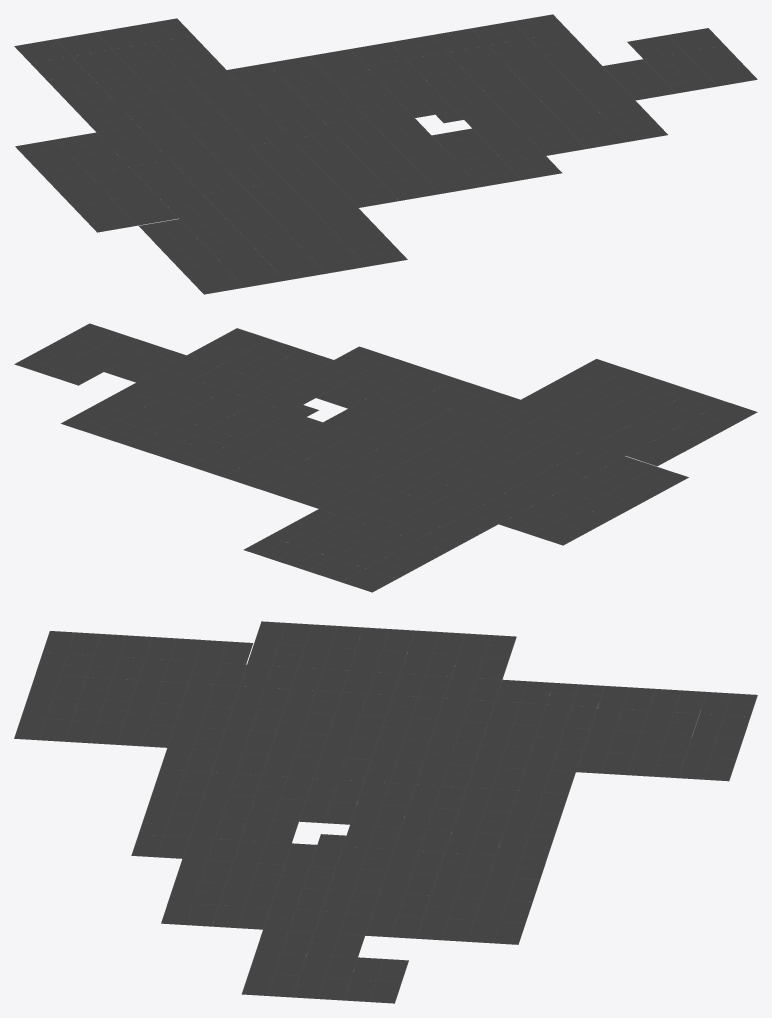
Rendered from Floor.fbx.
3 views of the same model, one above another, from view 1: azimuth 30°, elevation 25°; view 2: azimuth 150°, elevation 25°; view 3: azimuth 270°, elevation 25° (orthographic). The views are drawn at different scales.
Parts seen in each view (by area): view 1: Mesh_floor_temple_TL (62), Mesh_floor_temple_TL (6), Mesh_floor_temple_TL (10), Mesh_floor_temple_TL (13), Mesh_floor_temple_TL (18), Mesh_floor_temple_TL (23), Mesh_floor_temple_TL (27), Mesh_floor_temple_TL (28), Mesh_floor_temple_TL (43), Mesh_floor_temple_TL (50), Mesh_floor_temple_TL (51), Mesh_floor_temple_TL (54) (+126 smaller); view 2: Mesh_floor_temple_TL (13), Mesh_floor_temple_TL (22), Mesh_floor_temple_TL (27), Mesh_floor_temple_TL (42), Mesh_floor_temple_TL (54), Mesh_floor_temple_TL (60), Mesh_floor_temple_TL (78), Mesh_floor_temple_TL (119), Mesh_floor_temple_TL (149), Mesh_floor_temple_TL (6), Mesh_floor_temple_TL (10), Mesh_floor_temple_TL (98) (+126 smaller); view 3: Mesh_floor_temple_TL (14), Mesh_floor_temple_TL (93), Mesh_floor_temple_TL (133), Mesh_floor_temple_TL (40), Mesh_floor_temple_TL (51), Mesh_floor_temple_TL (71), Mesh_floor_temple_TL (78), Mesh_floor_temple_TL (82), Mesh_floor_temple_TL (95), Mesh_floor_temple_TL (101), Mesh_floor_temple_TL (103), Mesh_floor_temple_TL (114) (+126 smaller).
Part boxes in pixels (box(x1,y1,x2,y2)): Mesh_floor_temple_TL (62): box(465, 163, 521, 186); Mesh_floor_temple_TL (6): box(660, 69, 716, 93); Mesh_floor_temple_TL (10): box(611, 118, 667, 141); Mesh_floor_temple_TL (13): box(603, 59, 659, 83); Mesh_floor_temple_TL (18): box(545, 49, 601, 72); Mesh_floor_temple_TL (23): box(488, 38, 544, 62); Mesh_floor_temple_TL (27): box(554, 107, 610, 131); Mesh_floor_temple_TL (28): box(570, 125, 627, 148); Mesh_floor_temple_TL (43): box(497, 97, 553, 121); Mesh_floor_temple_TL (50): box(440, 87, 496, 110); Mesh_floor_temple_TL (51): box(456, 104, 512, 128); Mesh_floor_temple_TL (54): box(505, 156, 562, 179); Mesh_floor_temple_TL (13): box(104, 358, 160, 382); Mesh_floor_temple_TL (22): box(86, 396, 142, 420); Mesh_floor_temple_TL (27): box(219, 352, 275, 376); Mesh_floor_temple_TL (42): box(201, 390, 257, 414); Mesh_floor_temple_TL (54): box(334, 346, 390, 370); Mesh_floor_temple_TL (60): box(316, 384, 372, 408); Mesh_floor_temple_TL (78): box(431, 378, 487, 402); Mesh_floor_temple_TL (119): box(416, 527, 472, 551); Mesh_floor_temple_TL (149): box(301, 533, 357, 557); Mesh_floor_temple_TL (6): box(97, 334, 153, 358); Mesh_floor_temple_TL (10): box(212, 328, 268, 352); Mesh_floor_temple_TL (98): box(427, 465, 483, 489); Mesh_floor_temple_TL (14): box(263, 908, 321, 932); Mesh_floor_temple_TL (93): box(218, 729, 276, 753); Mesh_floor_temple_TL (133): box(254, 621, 312, 645); Mesh_floor_temple_TL (40): box(431, 874, 488, 898); Mesh_floor_temple_TL (51): box(284, 843, 342, 867); Mesh_floor_temple_TL (71): box(503, 812, 561, 836); Mesh_floor_temple_TL (78): box(153, 769, 210, 793); Mesh_floor_temple_TL (82): box(364, 760, 422, 784); Mesh_floor_temple_TL (95): box(525, 747, 582, 771); Mesh_floor_temple_TL (101): box(225, 707, 283, 732); Mesh_floor_temple_TL (103): box(532, 726, 590, 750); Mesh_floor_temple_TL (114): box(393, 673, 451, 698).
Size of the model in its own units: 175 by 0 by 144.
